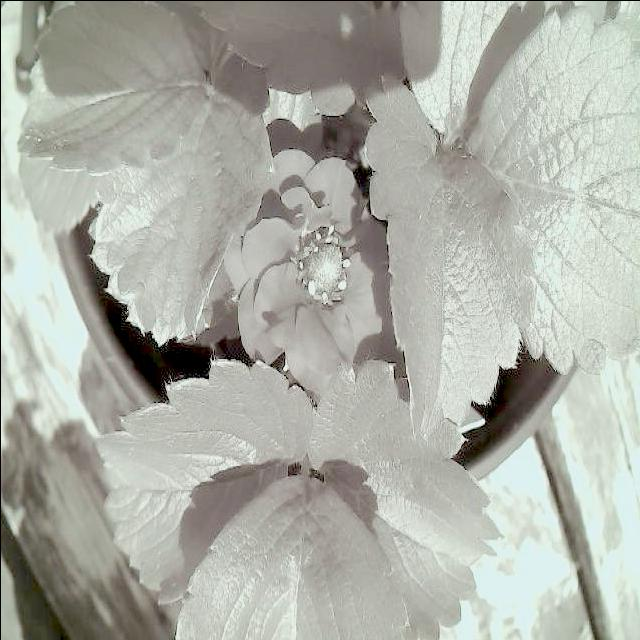flower: (224, 144, 398, 397)
